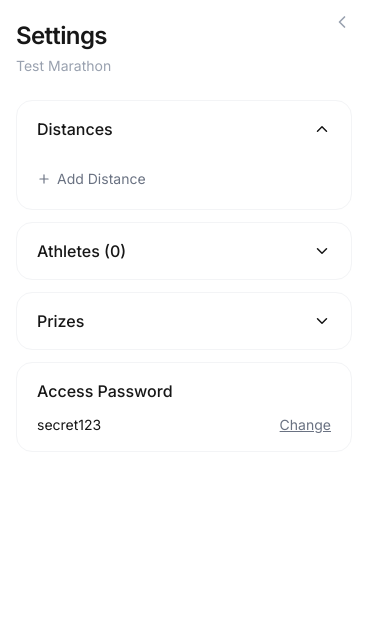
Scenario: Settings Page — Access Password › shows "Password must be at least 4 characters" for short password
This screenshot has width=369, height=619.
Click the button "Change": (305, 425) 280,415 -> 331,435
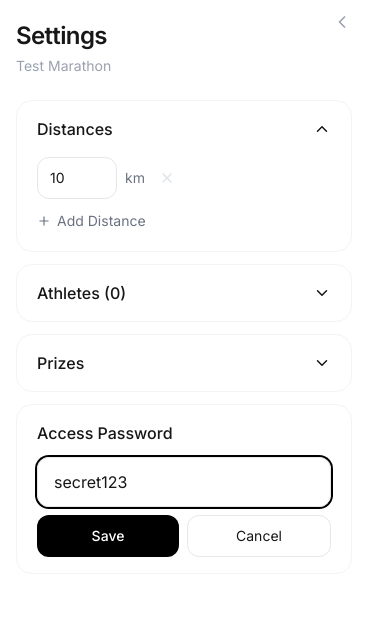
Replace the text in the field showing "secret123" with "ab": (184, 482) 37,457 -> 331,507
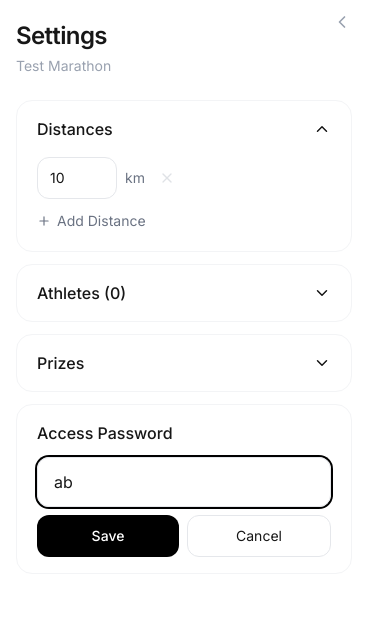
Click the button "Save": (108, 536) 37,515 -> 179,557
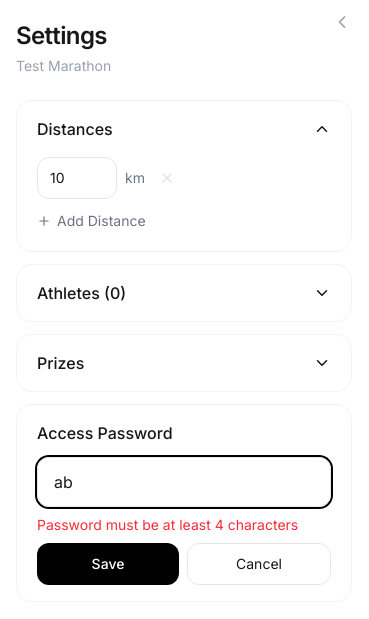
Expected: the text "Password must be at least 4 characters" is shown, 37,515 -> 331,535
